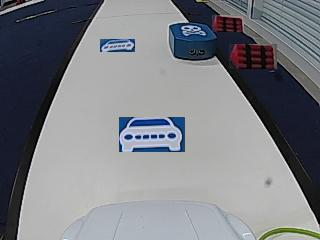danger: (180, 24, 205, 36)
